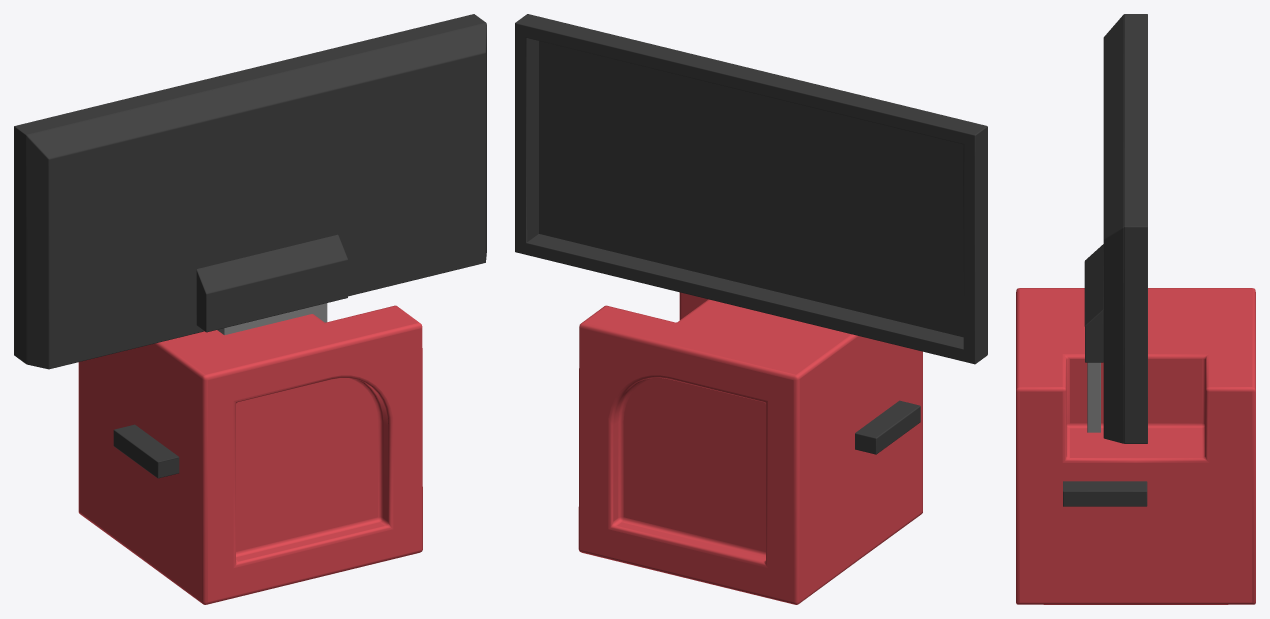
3 views of the same model, side by side, from view 1: azimuth 30°, elevation 25°; view 2: azimuth 150°, elevation 25°; view 3: azimuth 270°, elevation 25° (orthographic). The views are drawn at different scales.
Visible parts, largest first — view 1: tv, Cube; view 2: tv, Cube; view 3: Cube, tv.
Part boxes in pixels (x1=…): tv: x1=14, y1=14, x2=486, y2=478; Cube: x1=78, y1=305, x2=422, y2=604; tv: x1=515, y1=14, x2=987, y2=454; Cube: x1=578, y1=292, x2=922, y2=604; Cube: x1=1016, y1=288, x2=1255, y2=604; tv: x1=1063, y1=14, x2=1147, y2=506.
Size of the model in its own units: 4.2 by 4 by 2.
3 materials, 3 textured.
